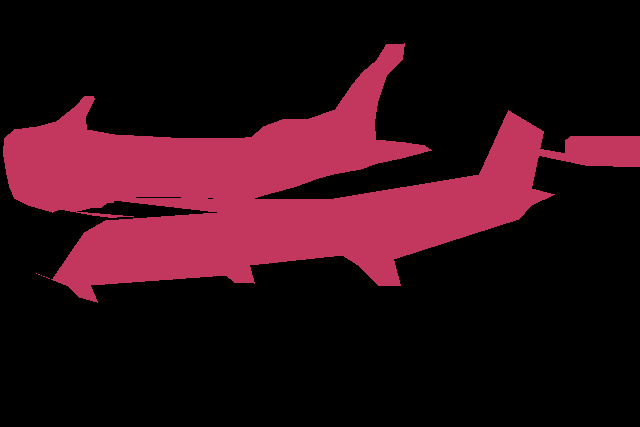Airplane: (36, 110, 555, 302), (3, 43, 431, 218), (537, 136, 640, 168)
